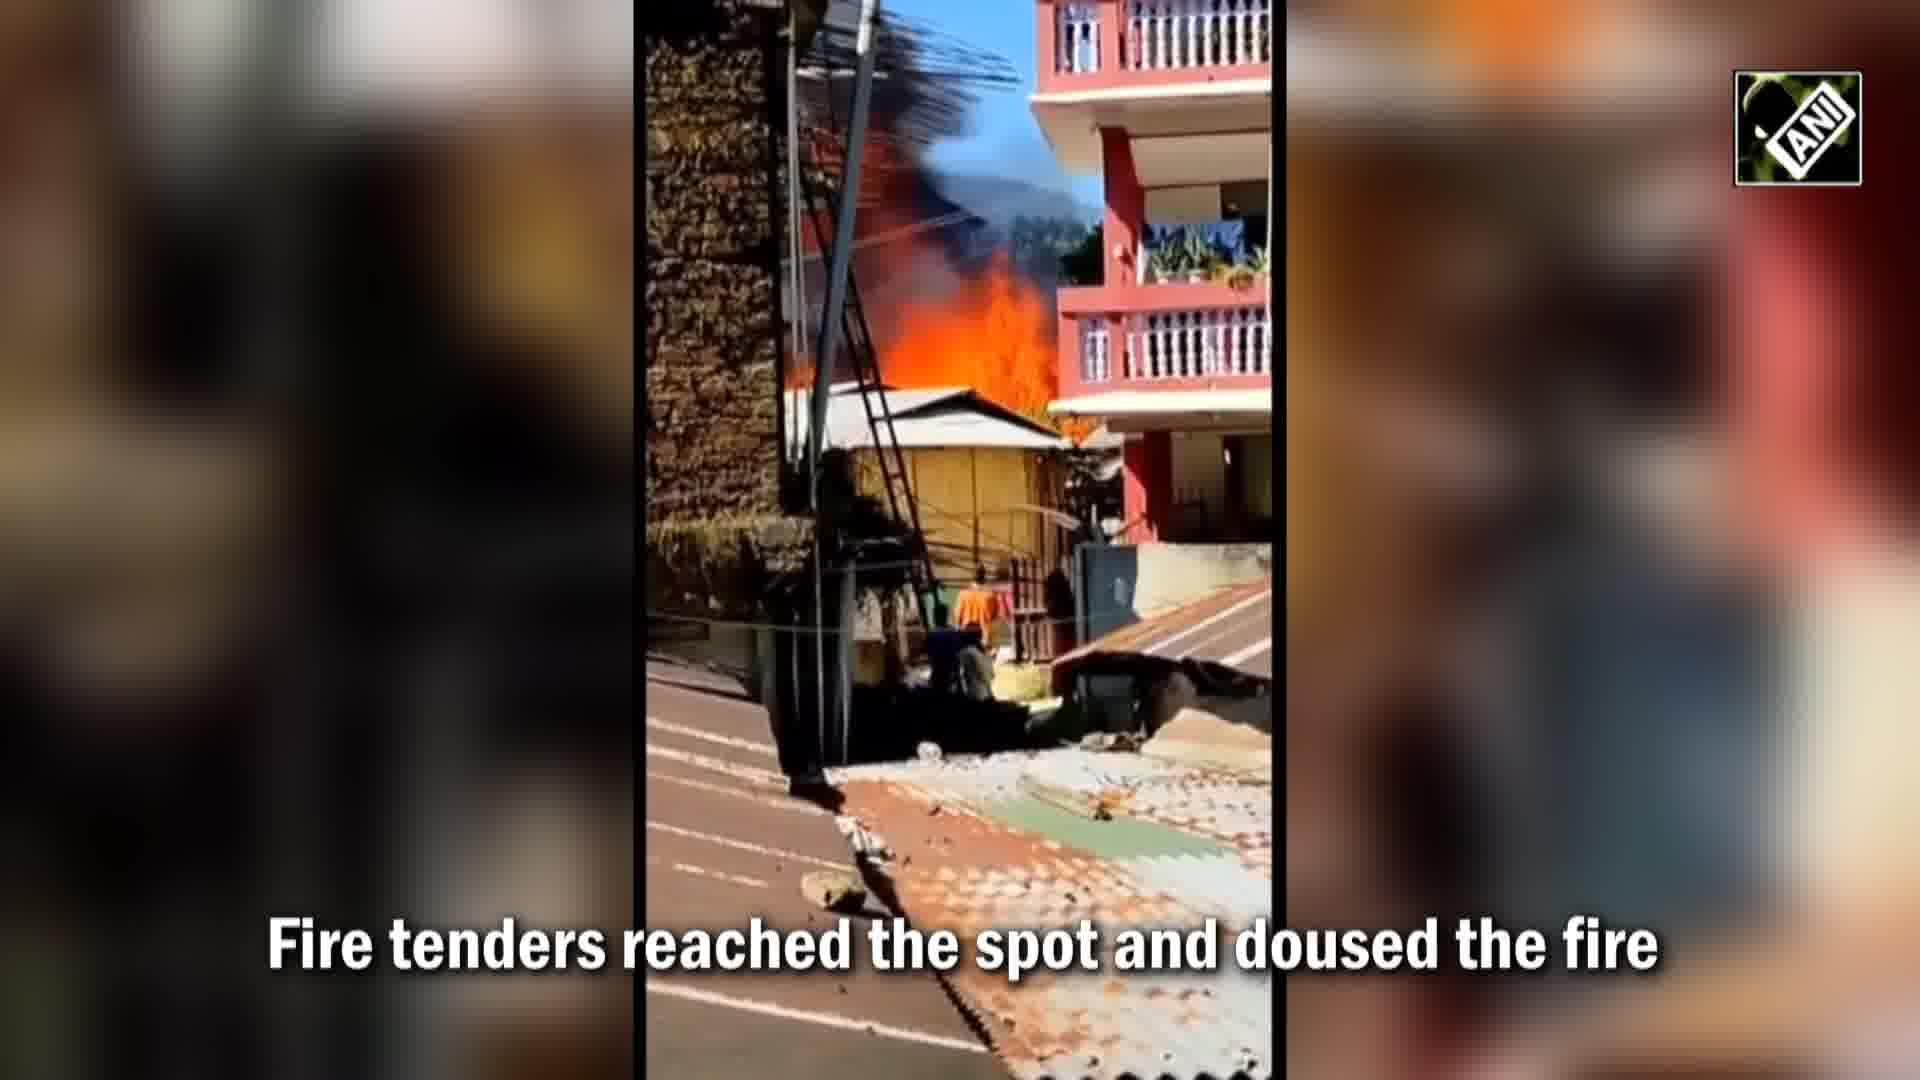fire: (893, 297, 1052, 417)
